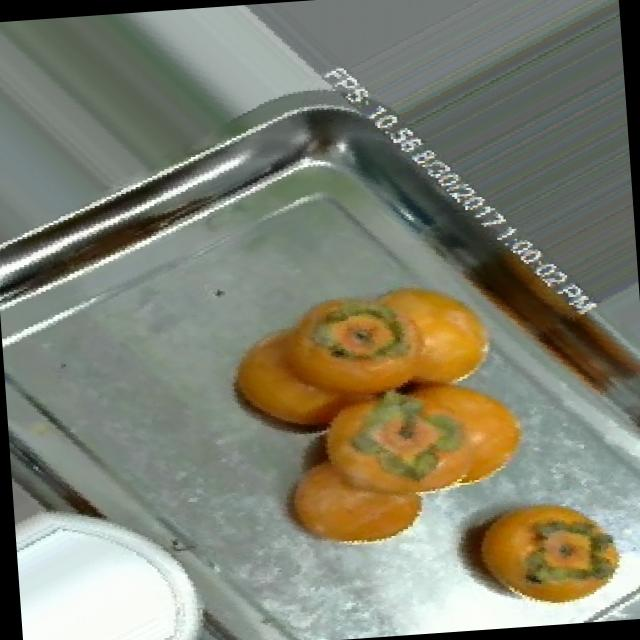Fruit: (425, 468, 640, 628), (332, 363, 546, 515), (206, 282, 388, 459), (257, 406, 448, 568)
